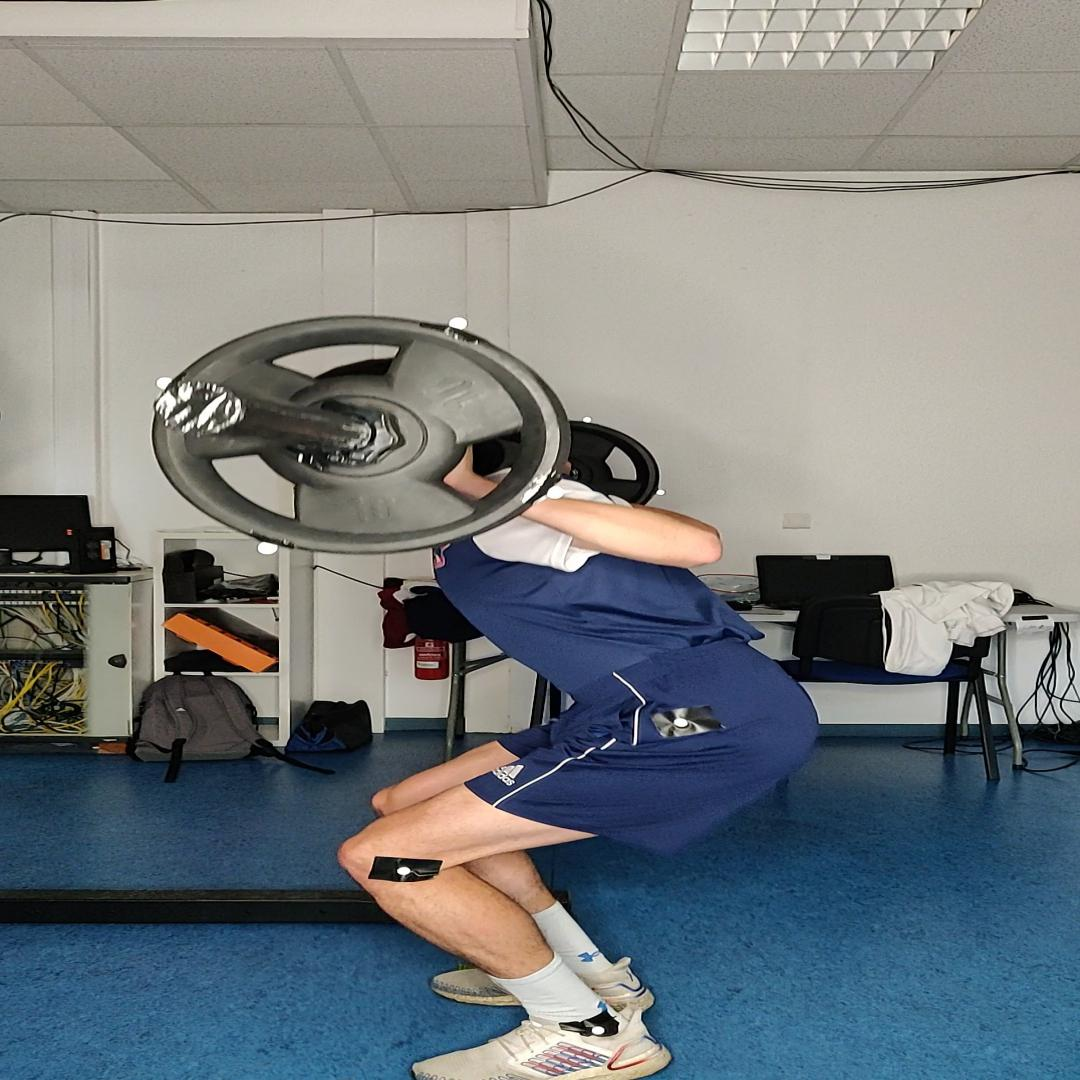Bar: (156, 381, 246, 436)
Barbell: (150, 315, 572, 554)
